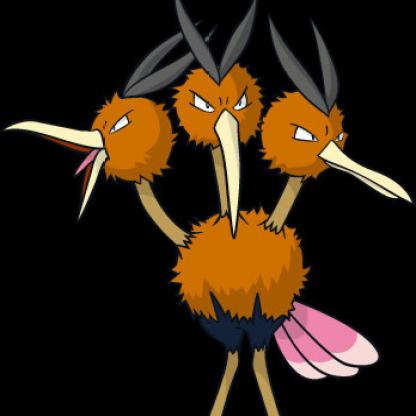Dodrio: (1, 1, 416, 416)
